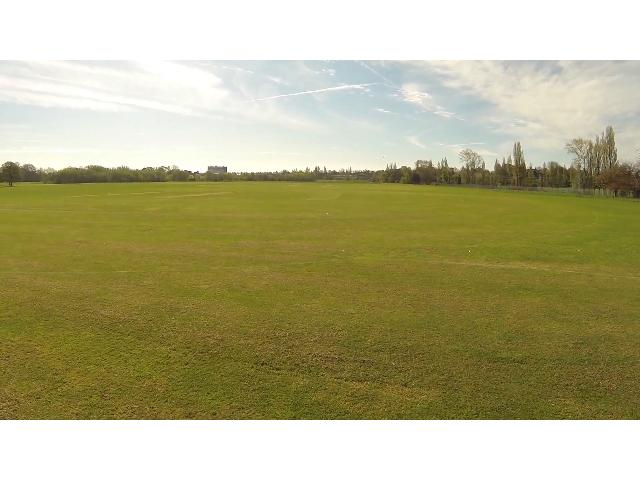Anti-Drone: (377, 153, 389, 161)
